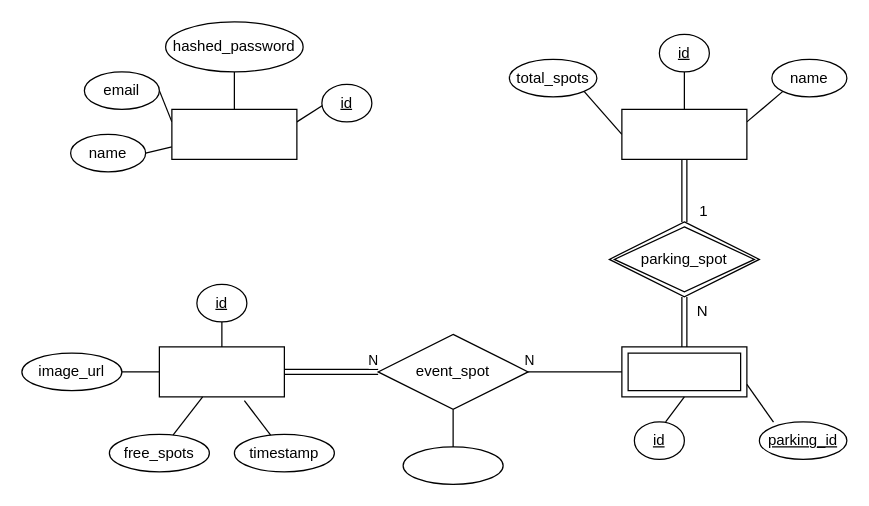
Image size: 869x506. Some labels were removed from this diagram. The box of each missing label's shape, as (x1, y1, x2, y2) in pixels:
event: (158, 346, 284, 397)
new_state: (402, 446, 503, 484)
parking_lot: (621, 108, 747, 159)
spot: (621, 346, 747, 397)
user: (171, 108, 297, 159)
